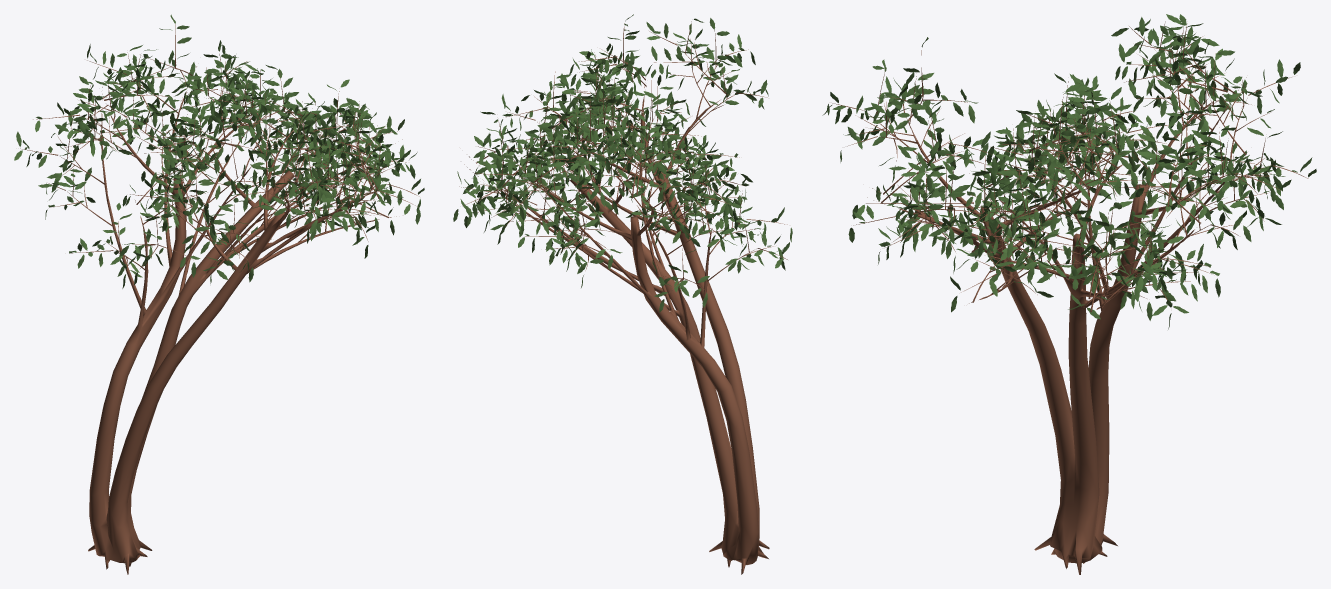
File: ArbousierCanopee_0_Niveau0.fbx
The picture shows the model from 3 angles, left to right: view 1: azimuth 30°, elevation 25°; view 2: azimuth 150°, elevation 25°; view 3: azimuth 270°, elevation 25°; orthographic projection. The views are drawn at different scales.
Parts seen in each view (by area): view 1: ArbousierCanopee_0_Niveau0; view 2: ArbousierCanopee_0_Niveau0; view 3: ArbousierCanopee_0_Niveau0.
Boxes of the visible parts, box(x1,y1,x2,y2) form: ArbousierCanopee_0_Niveau0: box(14, 14, 424, 574); ArbousierCanopee_0_Niveau0: box(453, 14, 792, 574); ArbousierCanopee_0_Niveau0: box(822, 14, 1316, 574).
Size of the model in its own units: 255 by 341 by 264.
